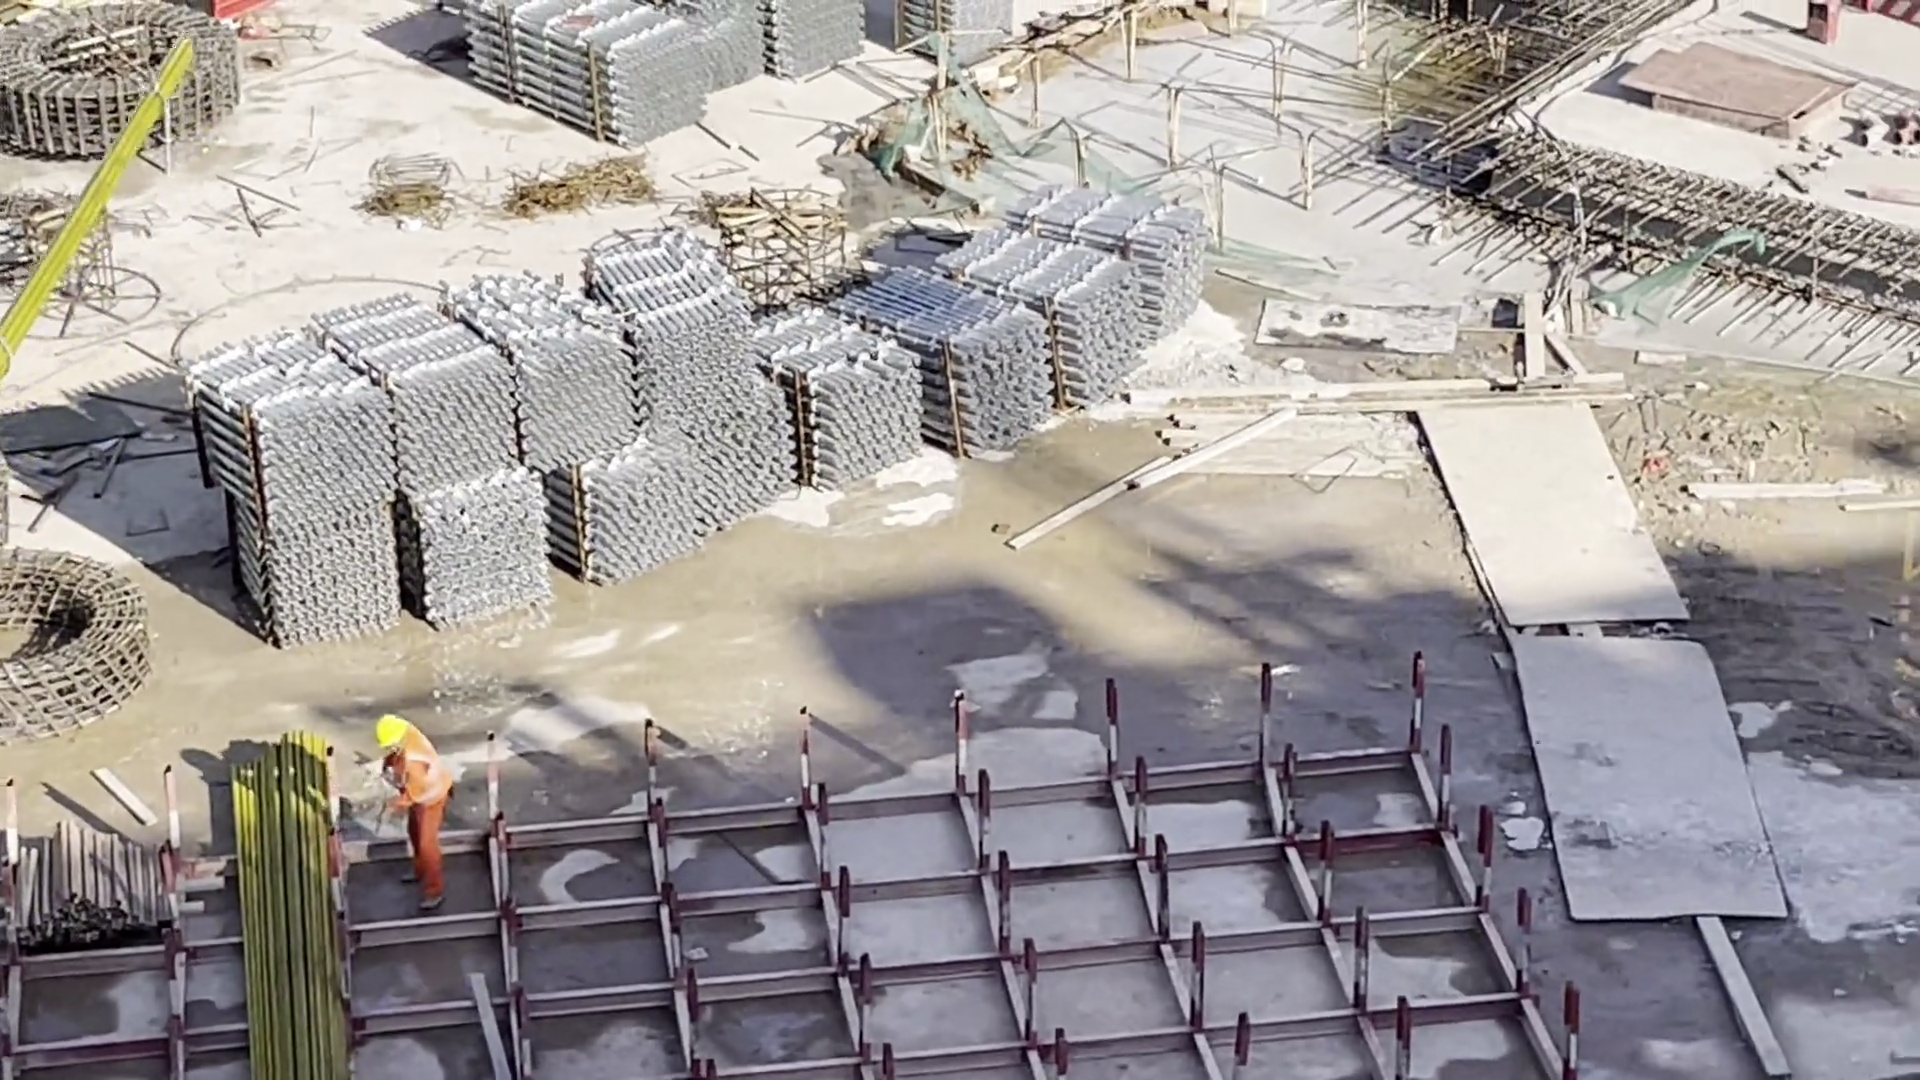board: (1618, 35, 1859, 133)
helmet: (365, 704, 413, 755)
person: (375, 717, 470, 909)
scaffold: (237, 183, 1214, 650), (457, 1, 875, 128)
vest: (398, 746, 464, 802)
